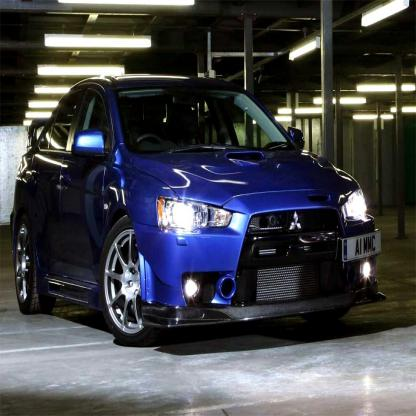Vehicle: (11, 78, 389, 354)
